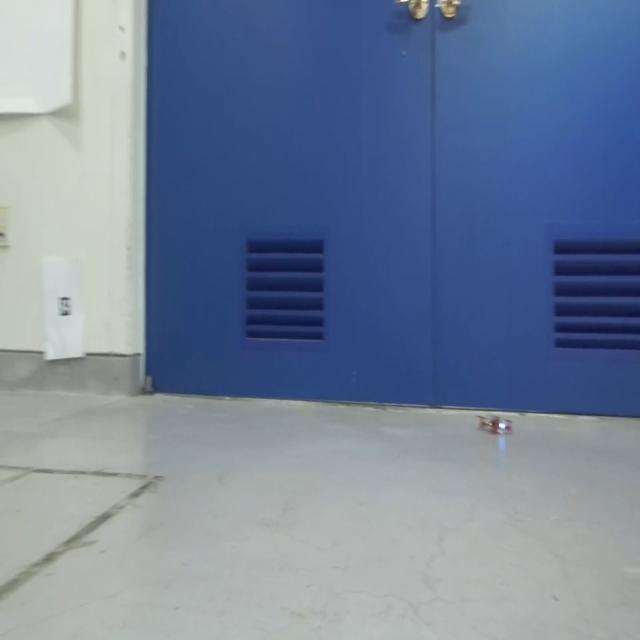crazyflie: (474, 409, 516, 441)
